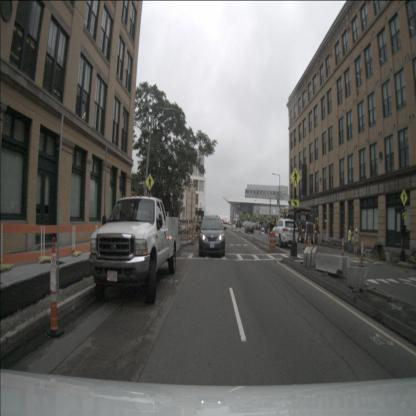cone: (46, 237, 64, 338), (358, 243, 364, 267), (269, 231, 275, 250), (341, 240, 344, 265), (302, 232, 306, 249), (312, 233, 316, 249), (191, 228, 194, 245), (188, 226, 191, 242), (193, 225, 196, 238), (307, 236, 310, 247), (309, 238, 312, 248), (259, 226, 262, 235), (268, 227, 270, 238), (197, 228, 199, 237)
